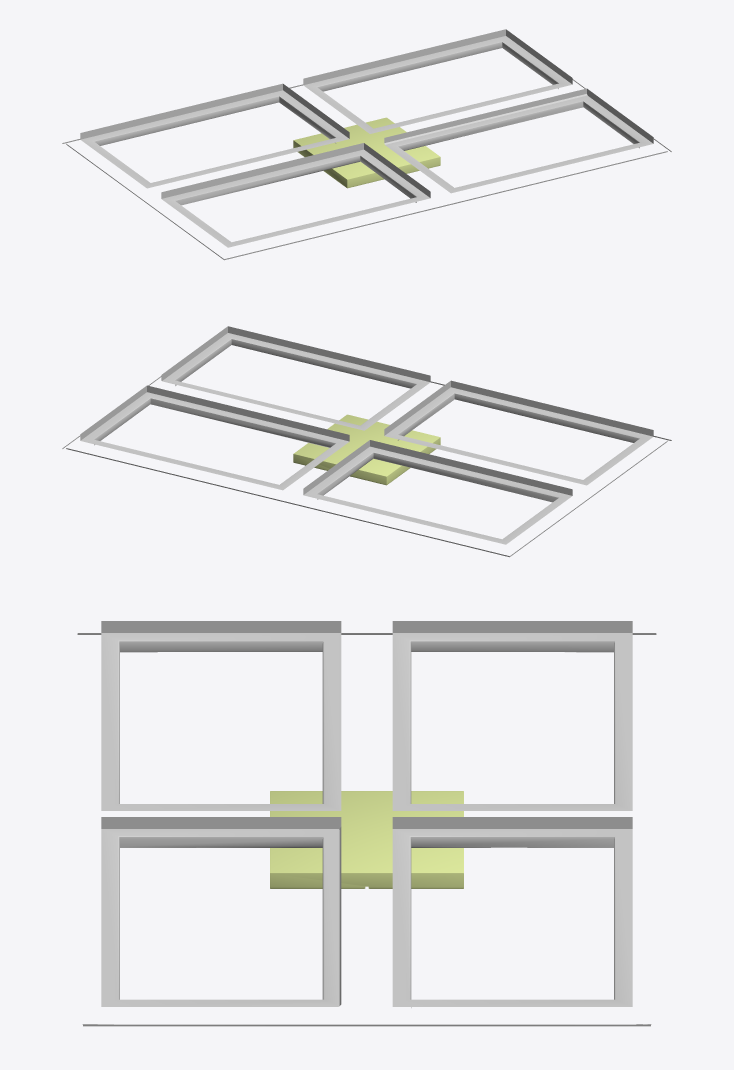
File: falseCeiling3.glb
3 views of the same model, one above another, from view 1: azimuth 30°, elevation 25°; view 2: azimuth 150°, elevation 25°; view 3: azimuth 270°, elevation 25° (orthographic). The views are drawn at different scales.
Visible parts, largest first — view 1: Plane001, Box001; view 2: Plane001, Box001; view 3: Plane001, Box001.
Boxes of the visible parts, left/top/right/bottom form: Plane001: left=62, top=29, right=671, bottom=260; Box001: left=293, top=117, right=440, bottom=188; Plane001: left=62, top=326, right=671, bottom=557; Box001: left=293, top=414, right=440, bottom=485; Plane001: left=77, top=621, right=656, bottom=1026; Box001: left=270, top=791, right=463, bottom=888.
Size of the model in its own units: 6 by 0.25 by 4.
